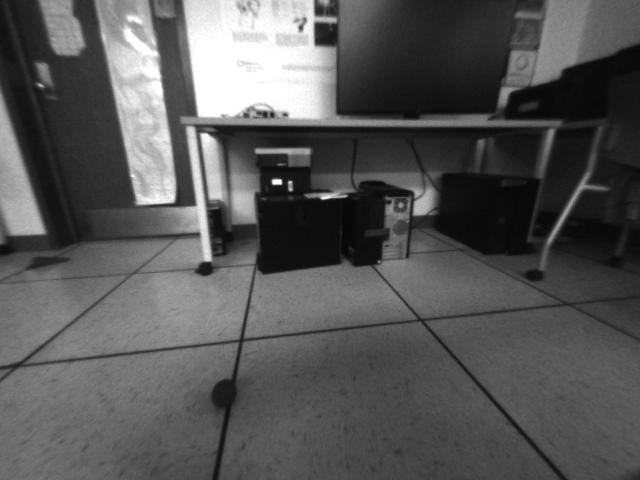dogtoy: (199, 370, 252, 415)
